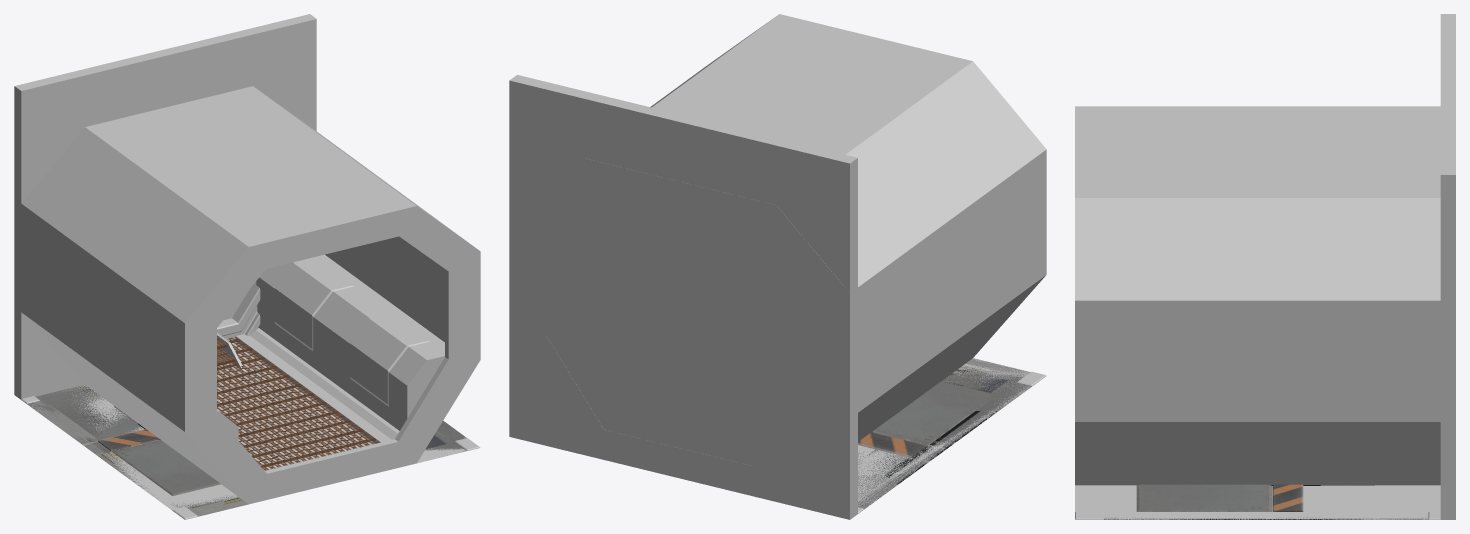
Rendered from HMS HG-Wells Pieces 01.fbx.
The picture shows the model from 3 angles, left to right: view 1: azimuth 30°, elevation 25°; view 2: azimuth 150°, elevation 25°; view 3: azimuth 270°, elevation 25°; orthographic projection. The views are drawn at different scales.
Parts seen in each view (by area): view 1: Corridor_Simple, Wall_Panels_01, Grate_Floor, Floor_Panels_02, Corridor_Simple_Encap, Floor_Container_02, Floor_Panels_01_B, Floor_Panels_01_A, Floor_Container_01, Small_Steps; view 2: Corridor_Simple, Wall_Panels_01, Corridor_Simple_Encap, Floor_Panels_02, Floor_Container_01, Floor_Panels_01_B, Floor_Panels_01_A, Floor_Container_02; view 3: Corridor_Simple, Floor_Panels_01_B, Corridor_Simple_Encap, Floor_Panels_02, Wall_Panels_01, Floor_Container_01.
Boxes of the visible parts, x1,y1,x2,y2 form: Corridor_Simple: (14,86,480,504); Wall_Panels_01: (14,14,316,399); Grate_Floor: (217,337,379,470); Floor_Panels_02: (33,384,465,516); Corridor_Simple_Encap: (14,14,316,399); Floor_Container_02: (33,385,466,515); Floor_Panels_01_B: (21,396,480,519); Floor_Panels_01_A: (29,385,466,496); Floor_Container_01: (27,403,464,450); Small_Steps: (217,333,245,371); Corridor_Simple: (509,14,1046,501); Wall_Panels_01: (509,74,857,519); Corridor_Simple_Encap: (509,75,857,519); Floor_Panels_02: (858,358,1030,510); Floor_Container_01: (858,367,1027,509); Floor_Panels_01_B: (858,359,1046,513); Floor_Panels_01_A: (858,358,1024,508); Floor_Container_02: (865,365,1031,504); Corridor_Simple: (1075,106,1455,485); Floor_Panels_01_B: (1075,485,1440,519); Corridor_Simple_Encap: (1440,14,1455,519); Floor_Panels_02: (1136,484,1303,511); Wall_Panels_01: (1440,14,1455,517); Floor_Container_01: (1104,485,1428,519).
Bounding box in the file's own units: 400 × 403 × 400.
